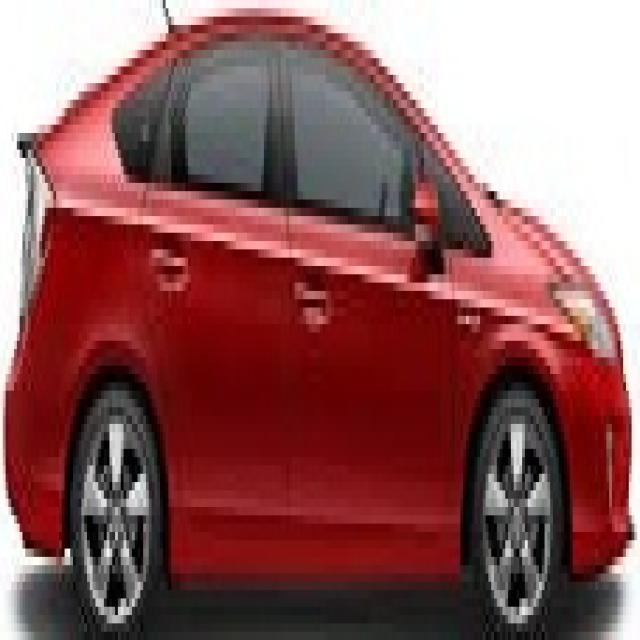red: (8, 0, 640, 579)
